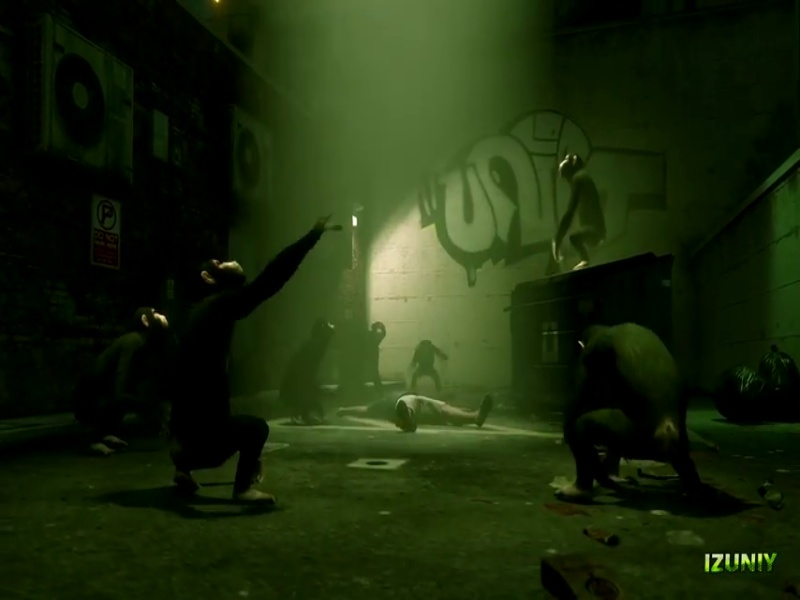human: (90, 220, 334, 507)
